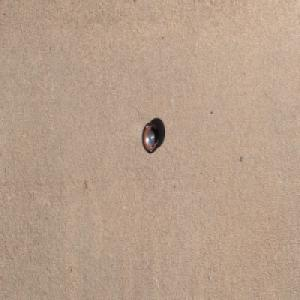FuelCap: (141, 120, 159, 155)
